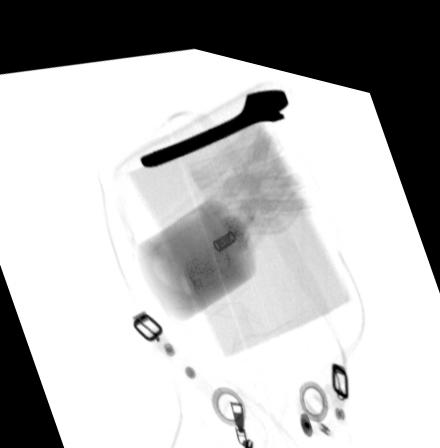Wrench: (139, 72, 288, 160)
